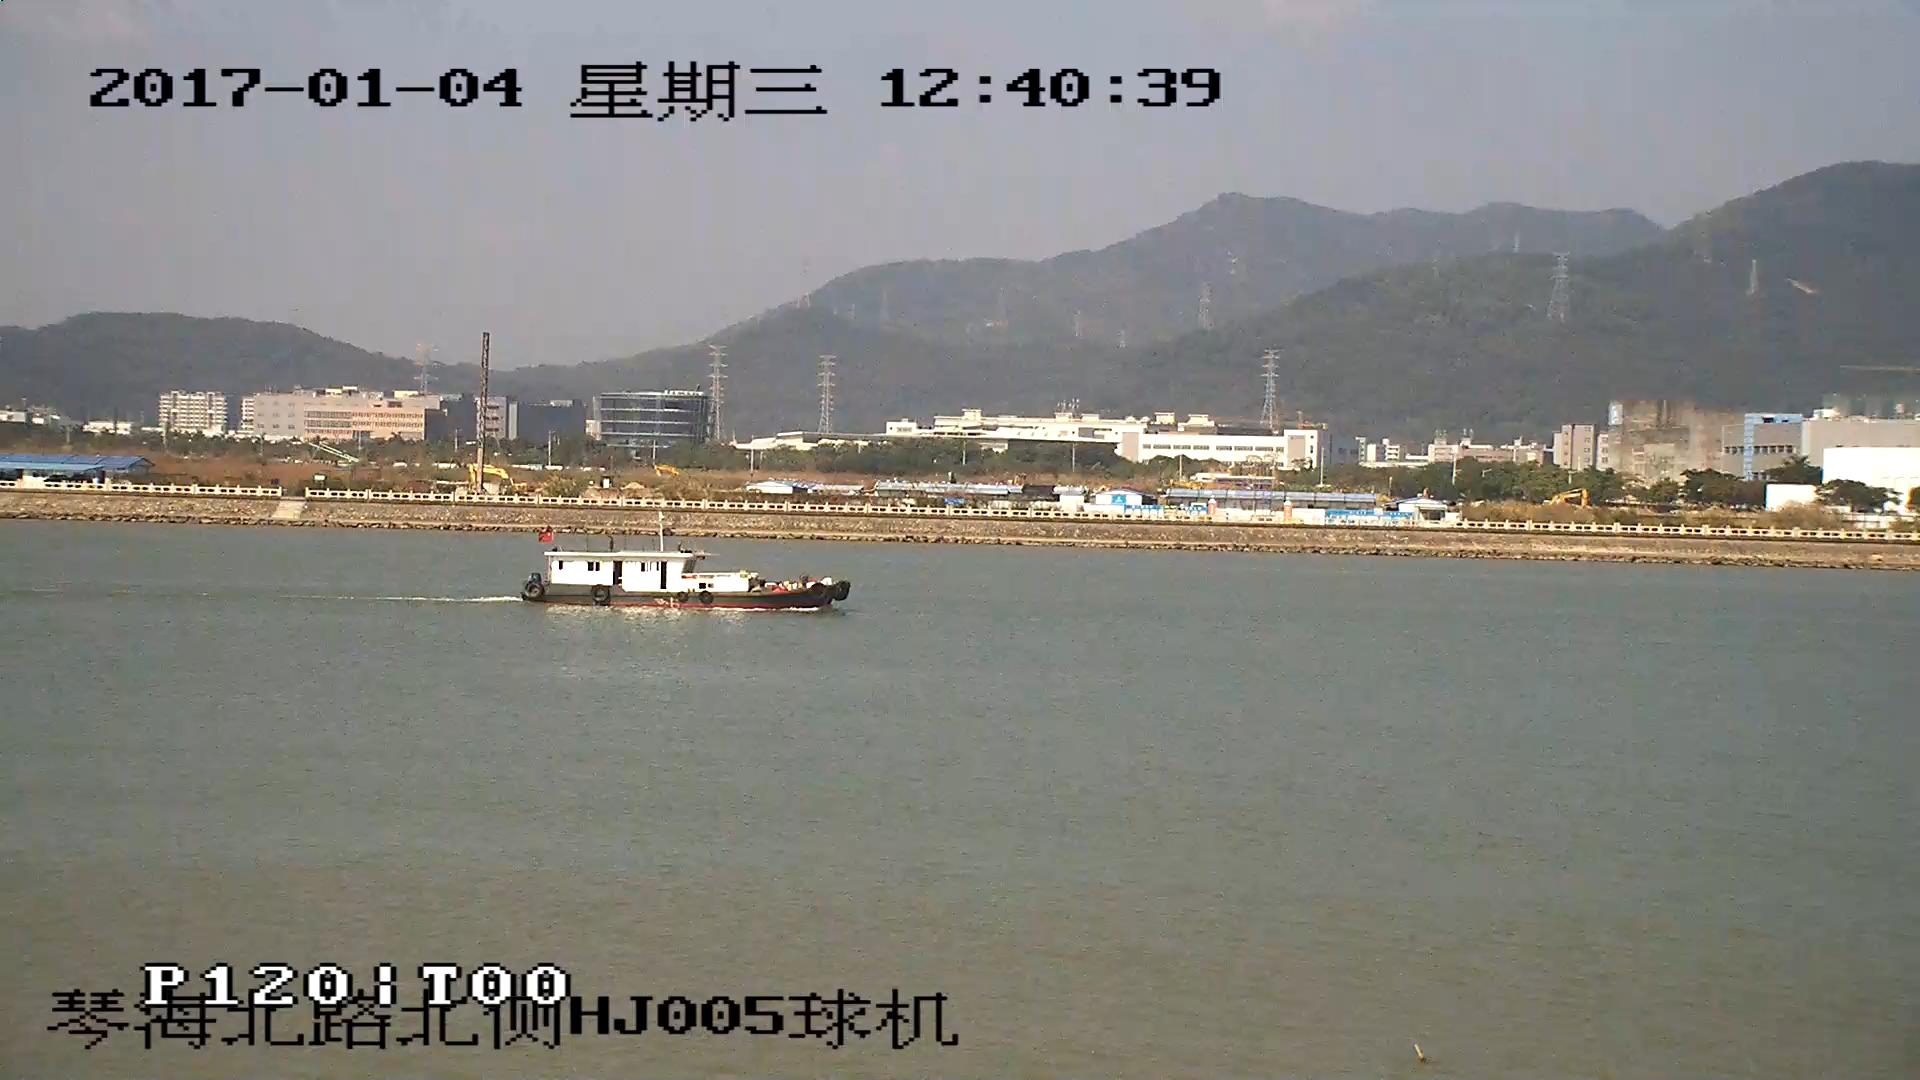fishing boat: (522, 532, 851, 616)
